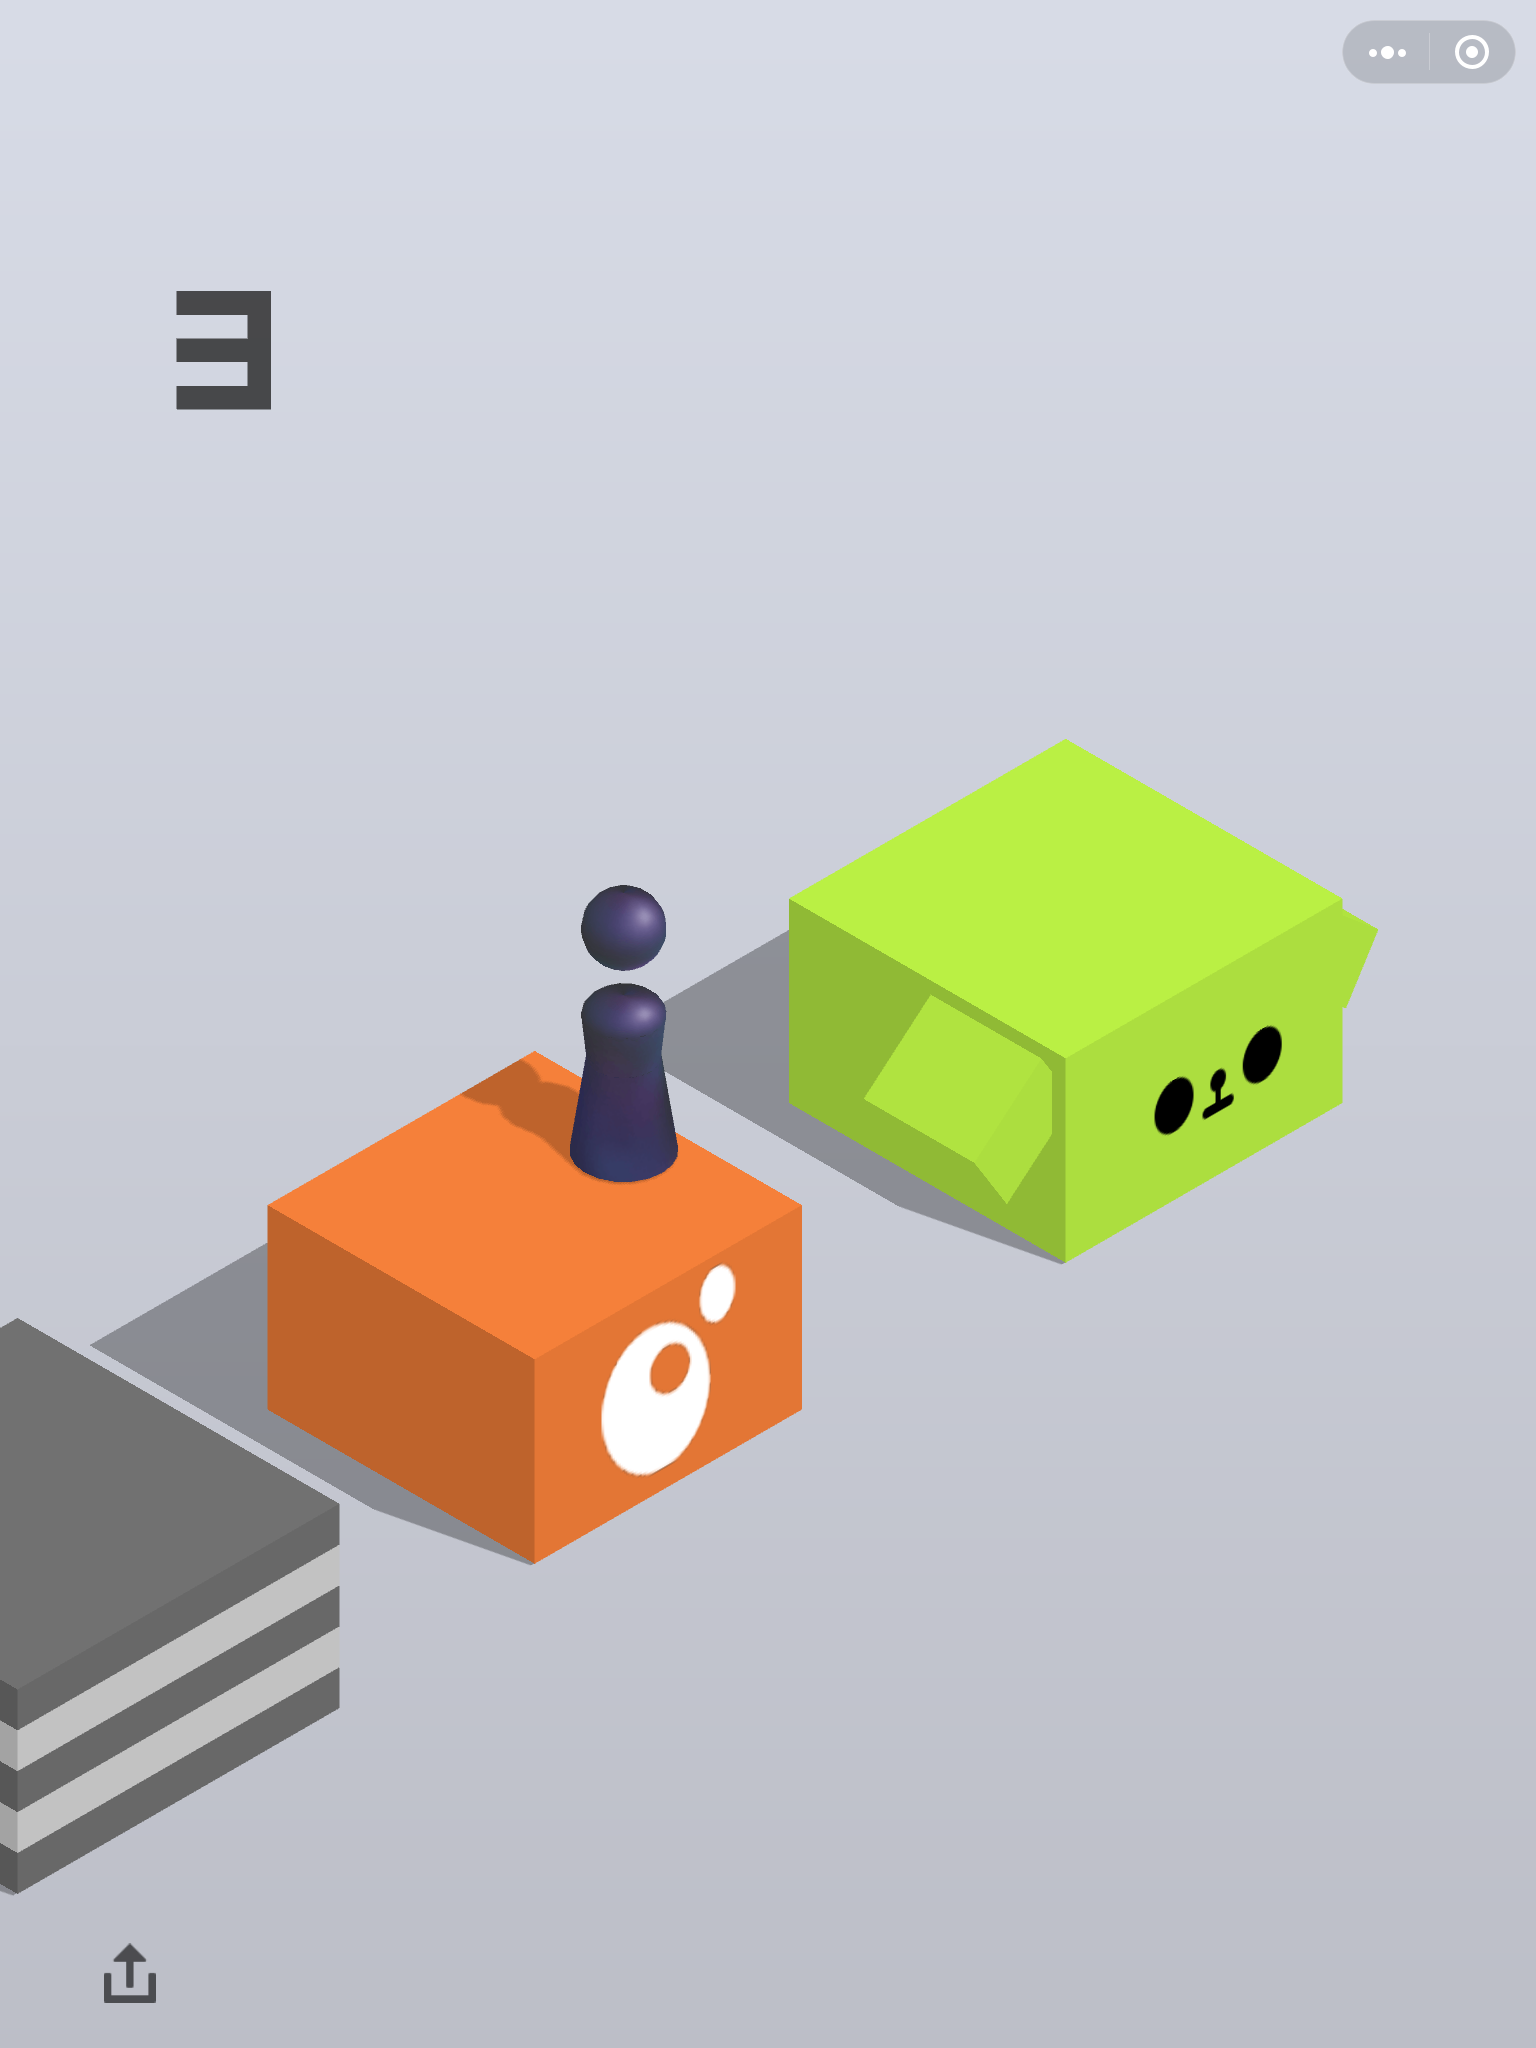f: (783, 732, 1375, 1266), (260, 1050, 812, 1566), (2, 1311, 345, 1896)
r: (565, 880, 686, 1188)
